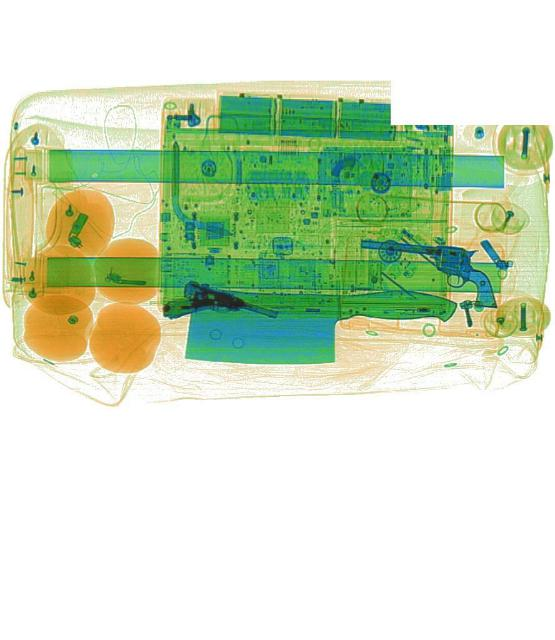Gun: (356, 239, 499, 309), (161, 272, 278, 350)
Knife: (183, 285, 454, 367)
